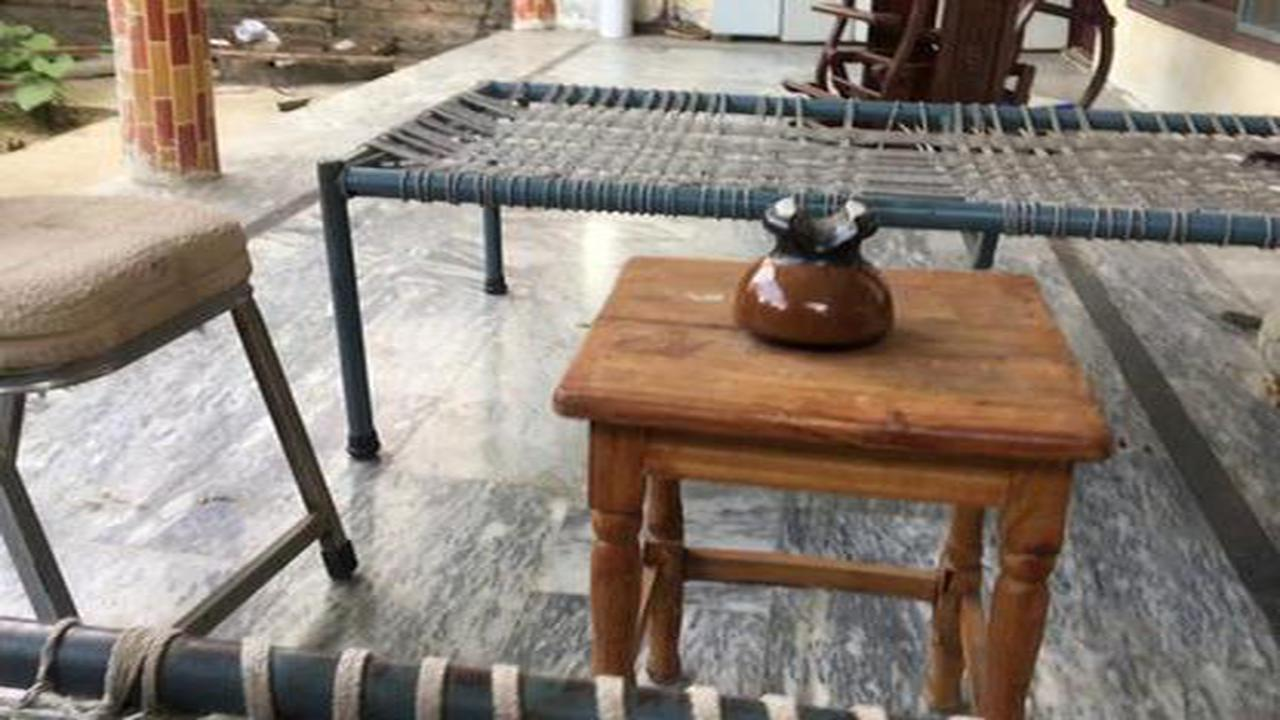insulator_pin: (724, 176, 917, 364)
